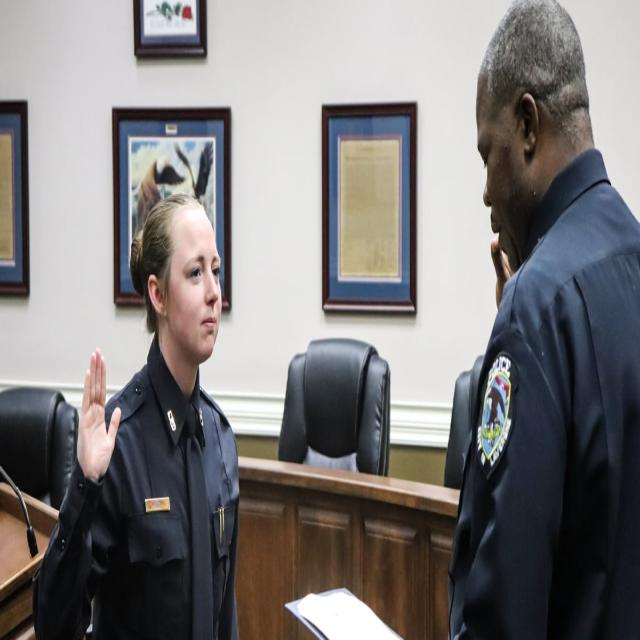police: (437, 0, 640, 640), (37, 193, 258, 640)
